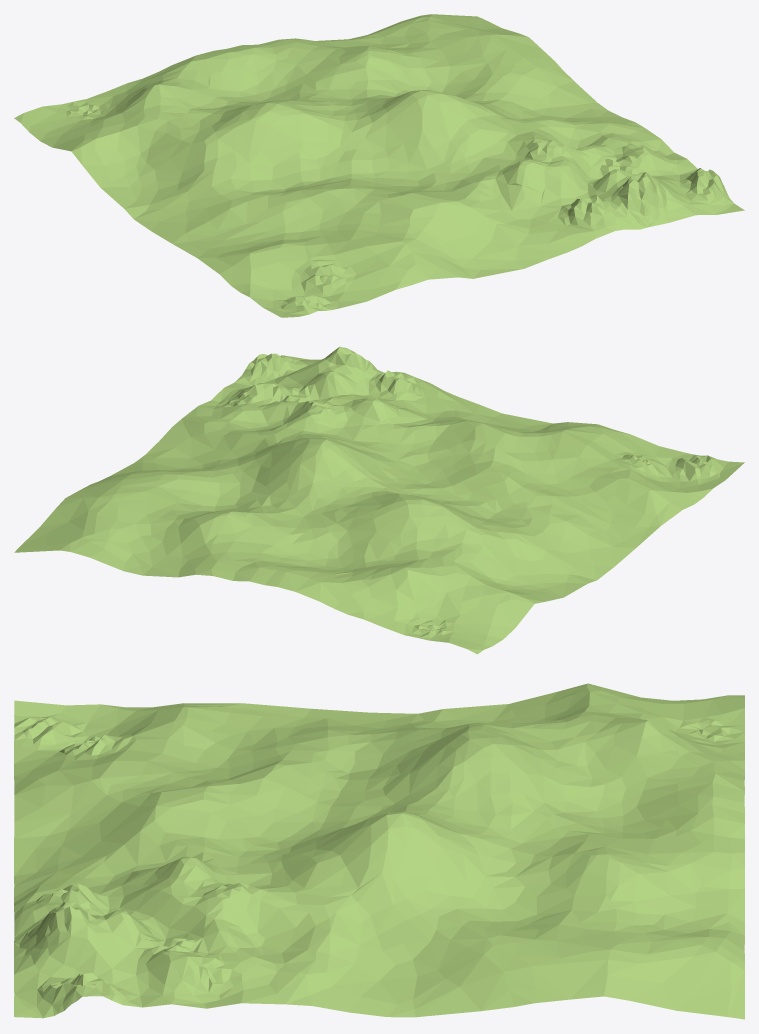
File: ter.fbx
The picture shows the model from 3 angles, top to bottom: view 1: azimuth 30°, elevation 25°; view 2: azimuth 150°, elevation 25°; view 3: azimuth 270°, elevation 25°; orthographic projection. The views are drawn at different scales.
Visible parts, largest first — view 1: Terrain; view 2: Terrain; view 3: Terrain.
Part boxes in pixels (x1=…): Terrain: x1=14, y1=14, x2=744, y2=317; Terrain: x1=14, y1=346, x2=744, y2=654; Terrain: x1=14, y1=683, x2=744, y2=1019.
Size of the model in its own units: 9973 by 1330 by 9971.
Materials: 1 (1 with a texture image).
